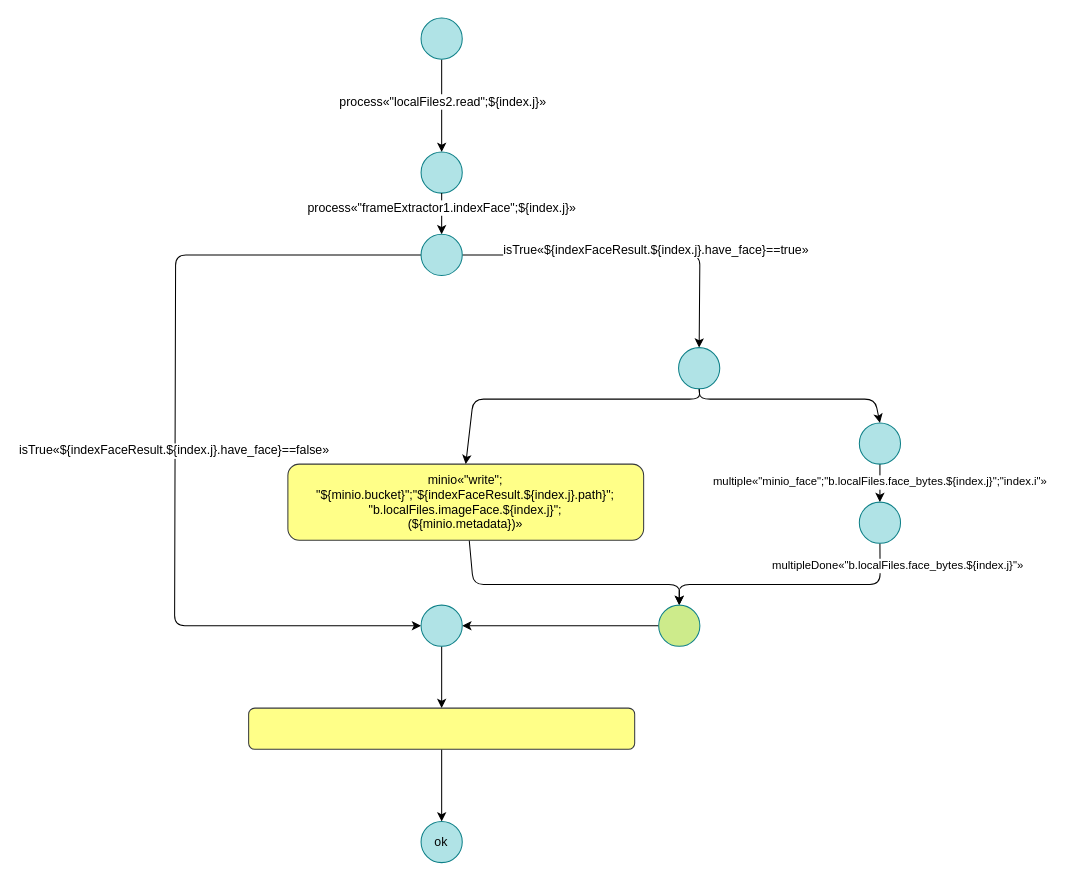
The diagram is 1066 pixels wide and 881 high, and some of its shapes have lost their labels. The shapes that lost their labels are listed below. From the top down, each one's centre as x and y in pixels, then its label:
(x=441, y=38): start
(x=441, y=728): set«"state.timelines.timelineFace.list.${index.j}.done";true»
